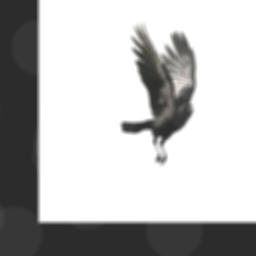Crow: (120, 20, 197, 169)
